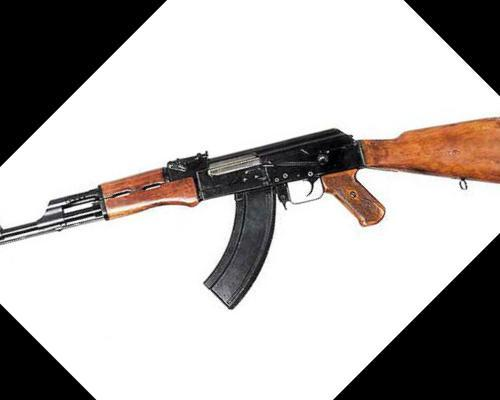larga: (0, 115, 500, 311)
